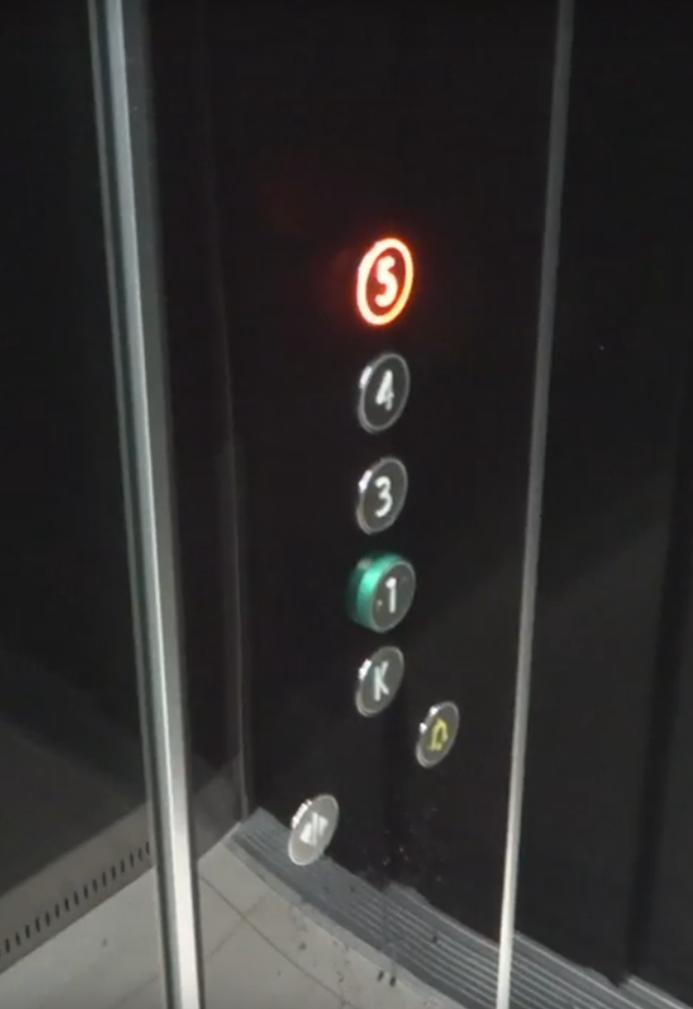1: (341, 550, 418, 636)
3: (351, 452, 413, 538)
4: (351, 350, 417, 438)
5: (352, 234, 415, 330)
K: (351, 641, 409, 721)
alarm: (413, 697, 464, 775)
open: (285, 787, 342, 872)
